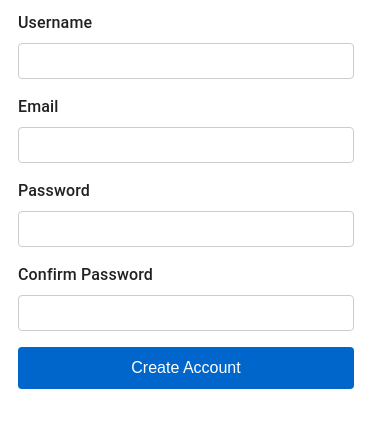
Test: RegisterForm › validates email format
Type "testuser" into the field labelled "Username" at (186, 61), box [18,43,354,79]
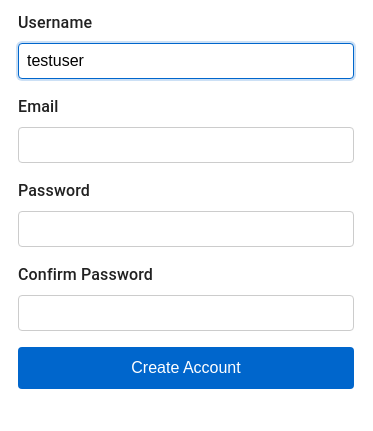
Type "invalid-email" into the field labelled "Email" at (186, 145), box [18,127,354,163]
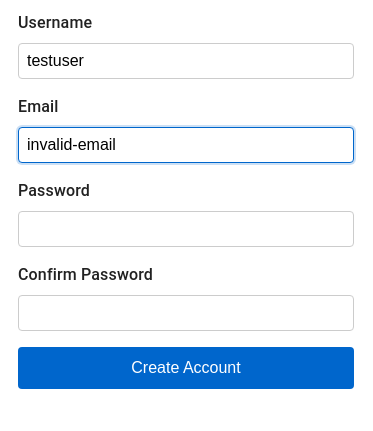
Type "password123" into the password field labelled "Password" at (186, 229), box [18,211,354,247]
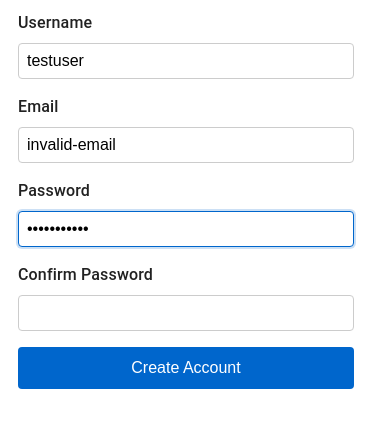
Type "password123" into the password field labelled "Confirm Password" at (186, 313), box [18,295,354,331]
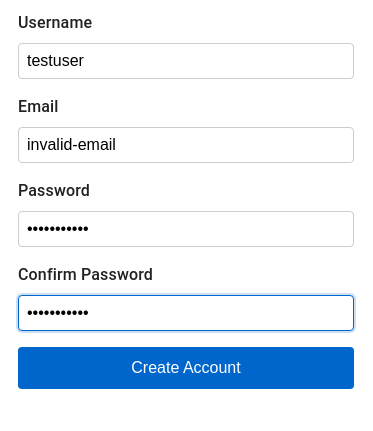
Click the button "Create Account" at (186, 368), box [18,347,354,389]
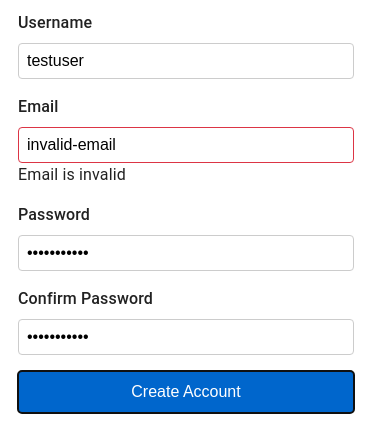
Check: the text "Email is invalid" is shown, box [18,165,126,184]
